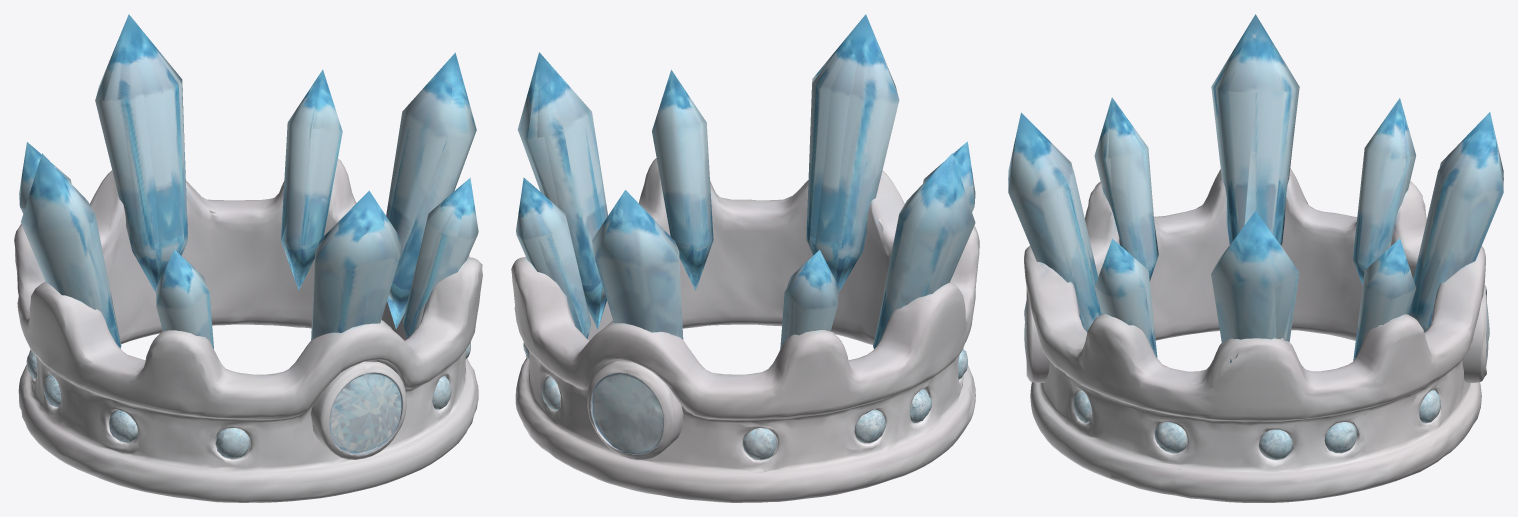
Rendered from crown_diamond.glb.
The picture shows the model from 3 angles, left to right: view 1: azimuth 30°, elevation 25°; view 2: azimuth 150°, elevation 25°; view 3: azimuth 270°, elevation 25°; orthographic projection. The views are drawn at different scales.
Bounding box in the file's own units: 0.9468 × 0.6372 × 0.9507.
1 material, 1 textured.
